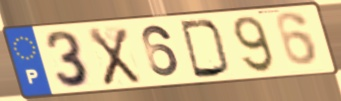3: (44, 29, 92, 90)
6: (276, 9, 321, 73), (140, 23, 183, 81)
9: (229, 14, 277, 74)
D: (177, 18, 233, 79)
X: (85, 26, 143, 87)
